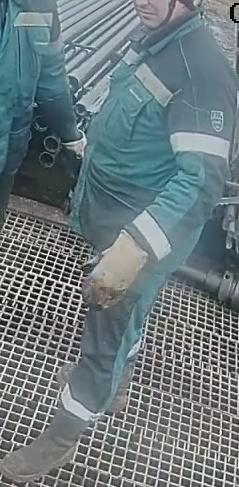gloves: (81, 229, 149, 310), (55, 127, 85, 178)
vest: (66, 14, 238, 262), (0, 0, 61, 192)
